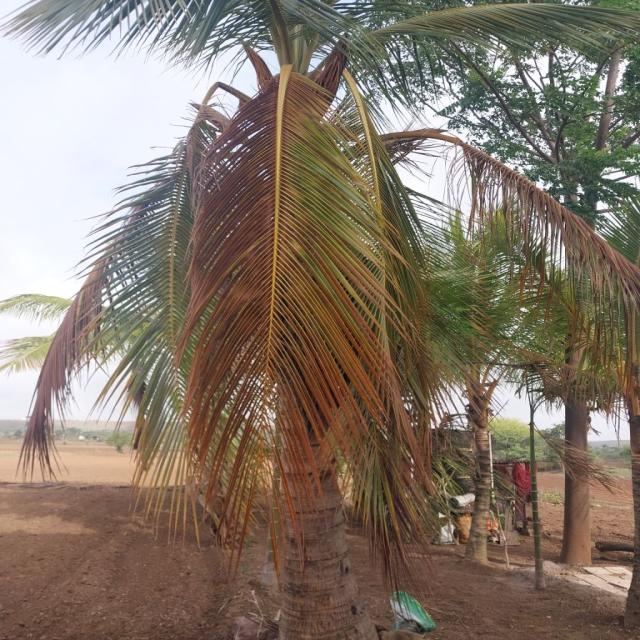bud root dropping: (7, 0, 637, 640)
